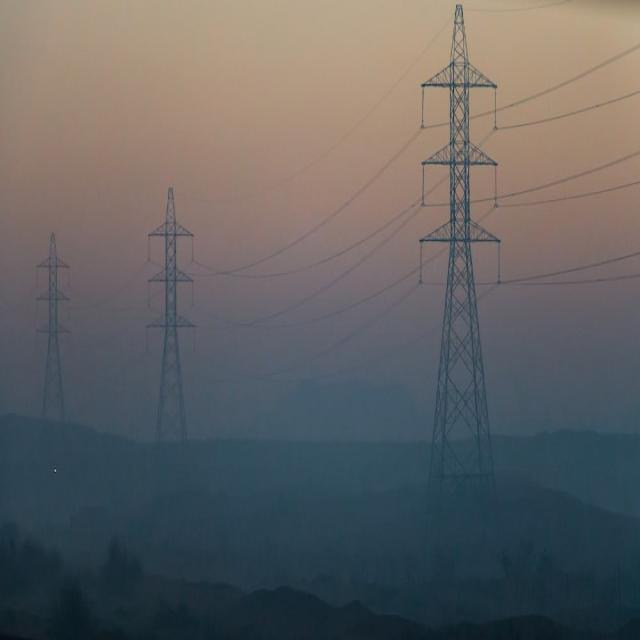transmission tower: (400, 0, 576, 581), (108, 149, 249, 508)
